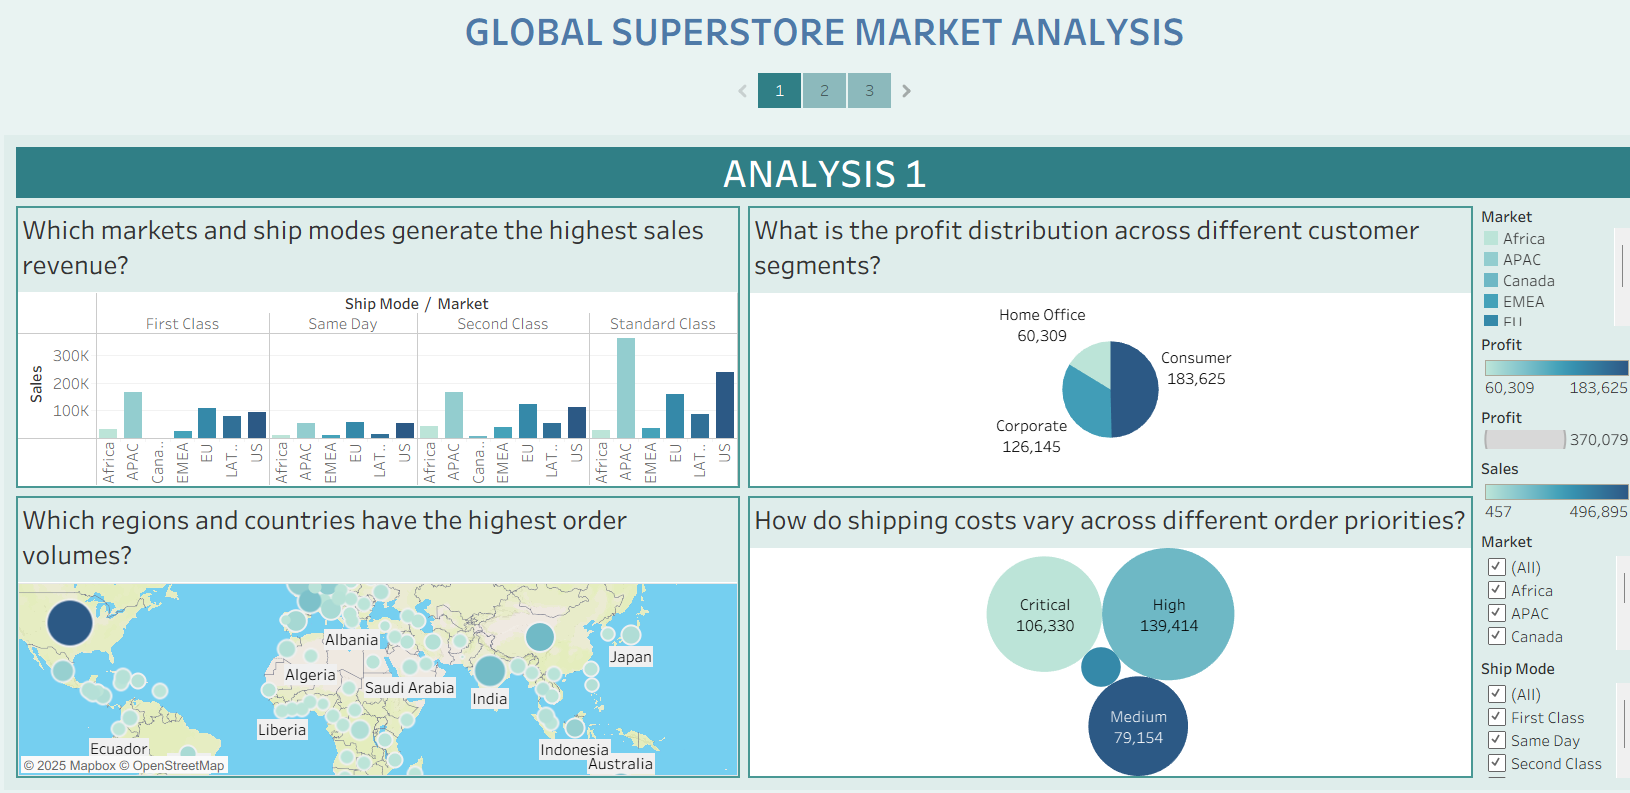

Layout of this report page (visuals, bound fields, positions):
{"tool":"tableau","page":{"name":"Dashboard 1","canvas":[1000,1000],"units":"permille","ordinal":0},"visuals":[{"type":"title","box":[4.8,10,990.3,73.7]},{"type":"worksheet","title":"Q1","mark":"Automatic","rows":["Sales"],"cols":["Ship Mode","Market"],"box":[4.8,83.7,446.9,453.2]},{"type":"worksheet","title":"Q2","mark":"Pie","box":[451.7,83.7,446.9,453.2]},{"type":"legend","title":"Q1","param":"[federated.0rowrb806fcned1h7k7491y5p6l9].[none:Market:nk]","box":[898.6,83.7,96.6,221]},{"type":"legend","title":"Q2","param":"[federated.0rowrb806fcned1h7k7491y5p6l9].[sum:Profit:qk]","box":[898.6,304.6,96.6,91.1]},{"type":"legend","title":"Q2","param":"[federated.0rowrb806fcned1h7k7491y5p6l9].[sum:Profit:qk]","box":[898.6,395.8,96.6,63.7]},{"type":"legend","title":"Q3","param":"[federated.0rowrb806fcned1h7k7491y5p6l9].[sum:Sales:qk]","box":[898.6,459.4,96.6,91.1]},{"type":"worksheet","title":"Q3","mark":"Circle","box":[4.8,536.8,446.9,453.2]},{"type":"worksheet","title":"Q4","mark":"Circle","box":[451.7,536.8,446.9,453.2]},{"type":"filter","title":"Q1","param":"[federated.0rowrb806fcned1h7k7491y5p6l9].[none:Market:nk]","box":[898.6,550.6,96.6,250.9]},{"type":"filter","title":"Q1","param":"[federated.0rowrb806fcned1h7k7491y5p6l9].[none:Ship Mode:nk]","box":[898.6,801.5,96.6,188.5]}]}

Visuals, with their boxes on the dashboard's canvas, which has no fixed pixel size, in thousandths of its width and height (x1, y1, x2, y2). These are canvas units, not pixel positions in the 1630x793 screenshot, which may show the page scaled, cropped or inside an application window:
title: Rect(5, 10, 995, 84)
"Q1" worksheet: Rect(5, 84, 452, 537)
"Q2" worksheet (Pie marks): Rect(452, 84, 899, 537)
"Q1" legend: Rect(899, 84, 995, 305)
"Q2" legend: Rect(899, 305, 995, 396)
"Q2" legend: Rect(899, 396, 995, 460)
"Q3" legend: Rect(899, 459, 995, 550)
"Q3" worksheet (Circle marks): Rect(5, 537, 452, 990)
"Q4" worksheet (Circle marks): Rect(452, 537, 899, 990)
"Q1" filter: Rect(899, 551, 995, 802)
"Q1" filter: Rect(899, 802, 995, 990)
